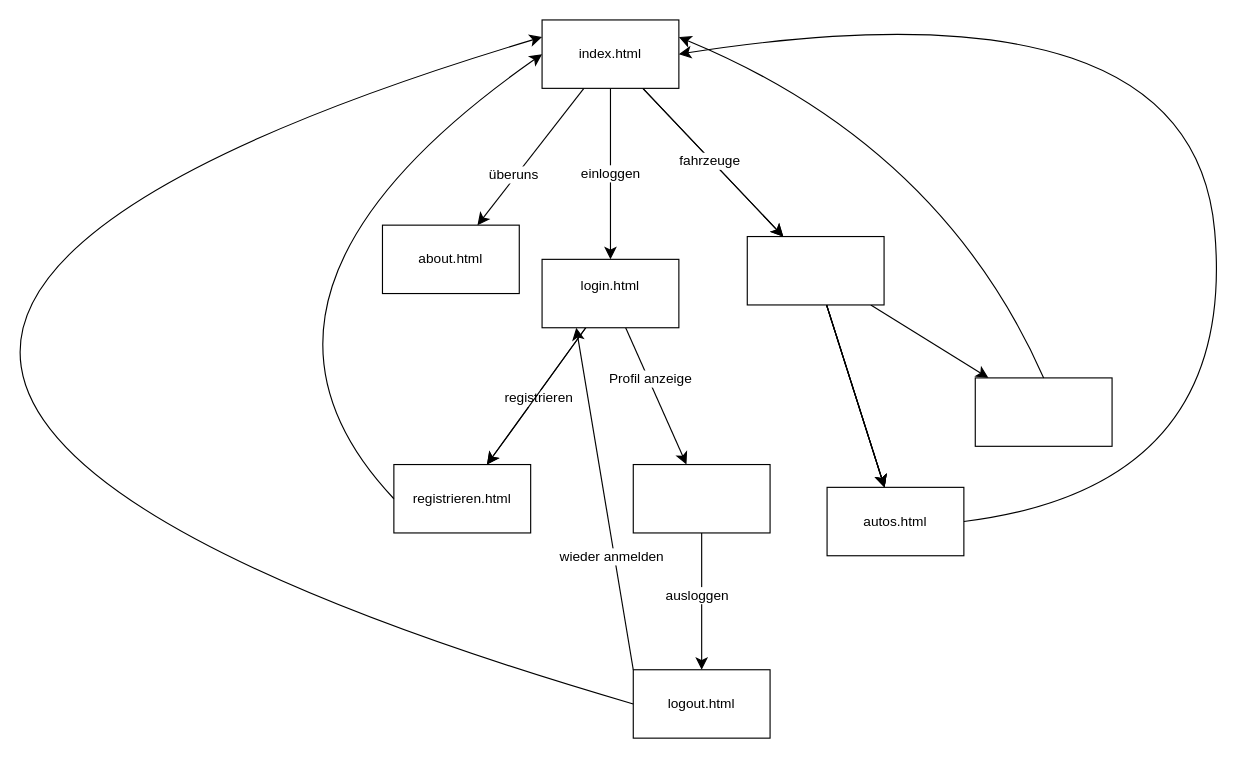
Image size: 1237x758. Some labels were removed from this diagram. The shapes that lost their labels are listed below. From the top down, each one's box as (x1, y1, x2, y2) in pixels, then its label:
(746, 235, 884, 305): bestand.html
(974, 377, 1112, 446): motorräder.html
(632, 463, 770, 533): user.html
